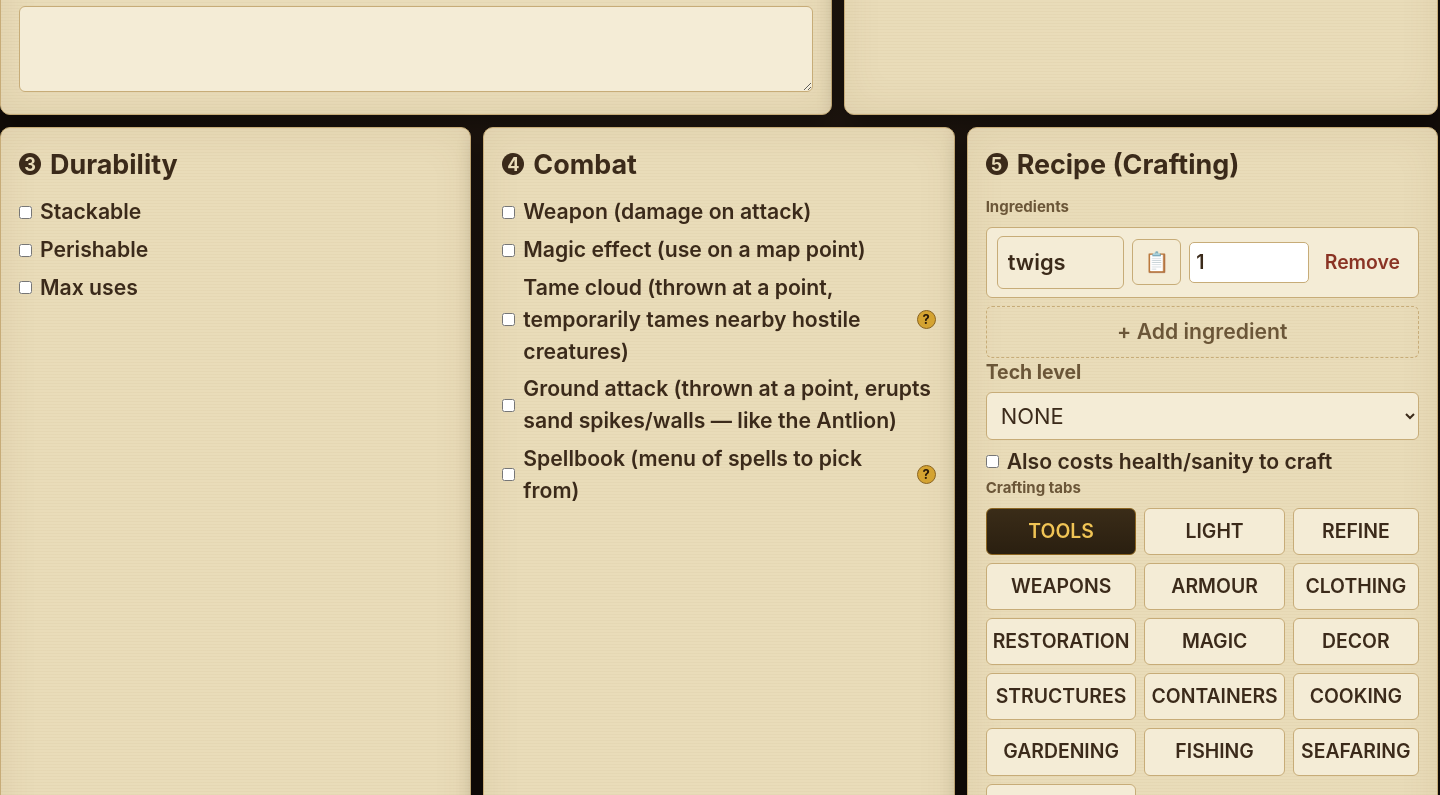
Test: ItemForm › ground attack disables both magic effect and tame cloud (all three share the spellcaster slot)
The image size is (1440, 795).
(page scrolled)
Click the text "Ground attack (thrown at a point, erupts sand spikes/walls — like the Antlion)" at (719, 405), box [502,373,936,437]
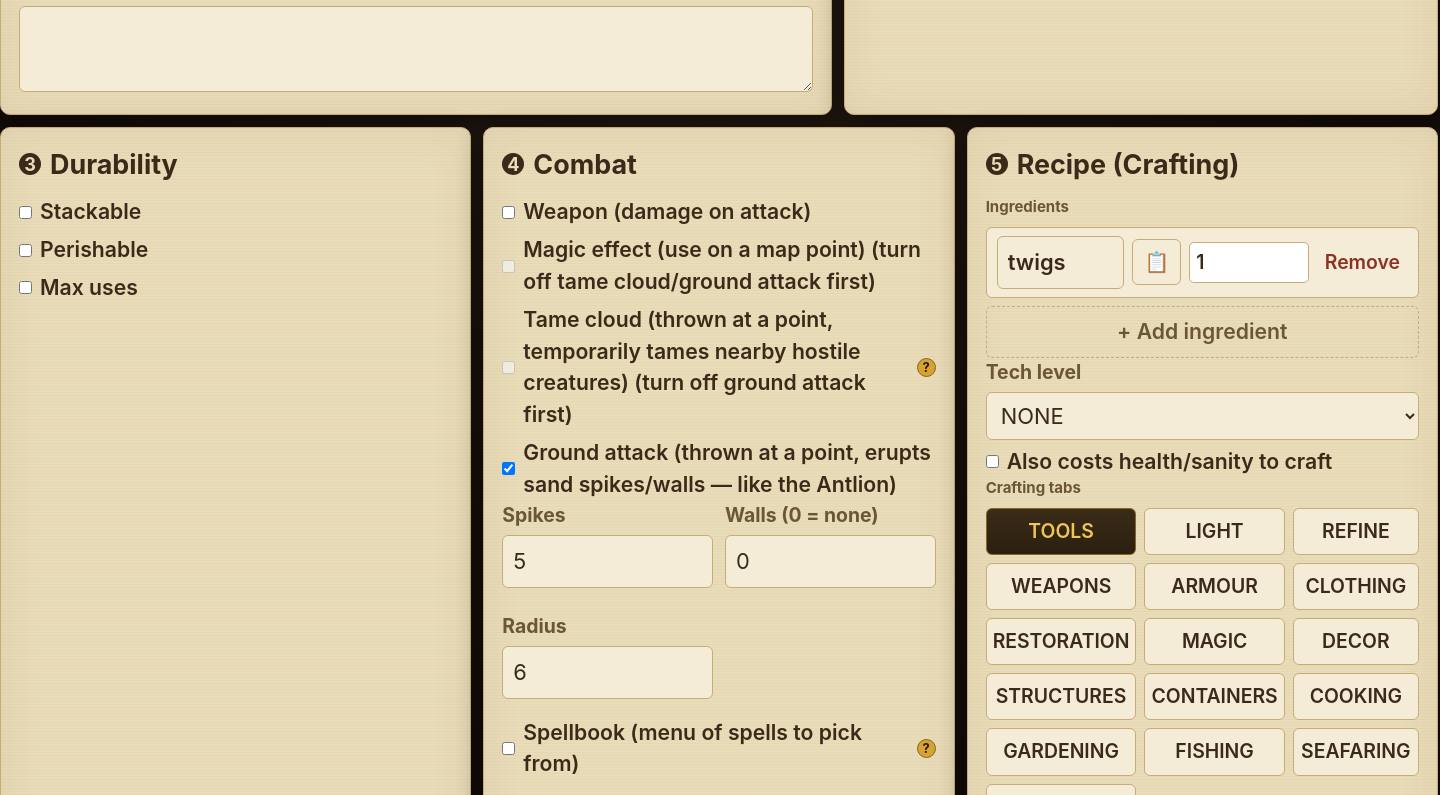
Check: the checkbox labelled "Magic effect (use on a map point)" is disabled, box [502,260,515,272]
Check: the checkbox labelled "Tame cloud" is disabled, box [502,361,515,374]
